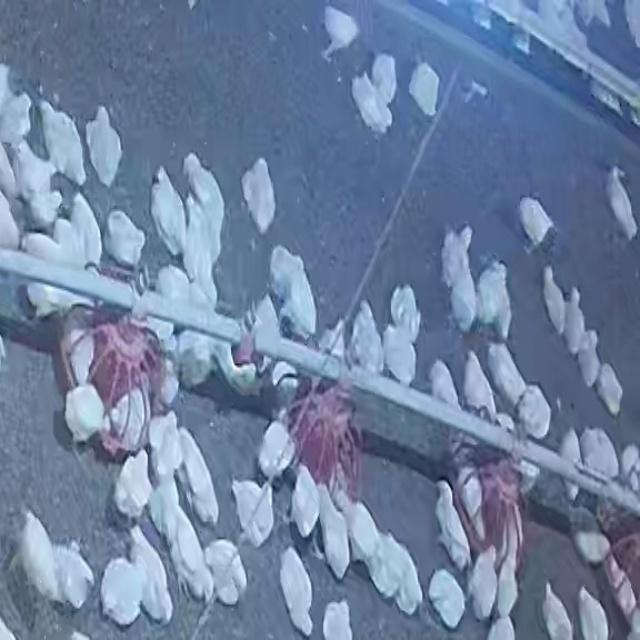chicken: (159, 492, 213, 604), (14, 508, 64, 608), (268, 244, 318, 341), (367, 527, 423, 611), (39, 99, 90, 189), (176, 426, 221, 525), (149, 164, 189, 262), (132, 526, 171, 624), (98, 555, 151, 627), (180, 210, 222, 300), (245, 291, 289, 375), (432, 478, 472, 570), (278, 545, 315, 635), (86, 100, 125, 184), (315, 483, 350, 576), (238, 156, 280, 233), (105, 385, 150, 456), (484, 340, 527, 414), (62, 382, 110, 448), (113, 446, 156, 519), (203, 539, 248, 608), (230, 478, 274, 548), (474, 259, 510, 343), (460, 350, 500, 424), (54, 543, 96, 613), (10, 138, 58, 196), (104, 208, 148, 271), (604, 167, 640, 244), (68, 193, 104, 269), (348, 302, 383, 378), (190, 153, 228, 220), (466, 548, 500, 621), (428, 568, 468, 629), (256, 419, 296, 480), (578, 426, 620, 484), (347, 498, 381, 565), (290, 466, 322, 536), (518, 196, 557, 253), (353, 81, 393, 136), (321, 4, 360, 60), (381, 324, 418, 383), (515, 384, 552, 442), (555, 427, 583, 499), (494, 552, 521, 626), (606, 564, 639, 624), (440, 222, 474, 280), (147, 412, 180, 470), (539, 584, 573, 640), (66, 325, 96, 388), (541, 263, 567, 335), (576, 585, 610, 640), (428, 358, 462, 413), (152, 474, 179, 542), (454, 254, 478, 330), (388, 284, 421, 339), (594, 360, 625, 418), (408, 60, 440, 116), (562, 287, 587, 356), (575, 334, 603, 388), (368, 55, 398, 97)
